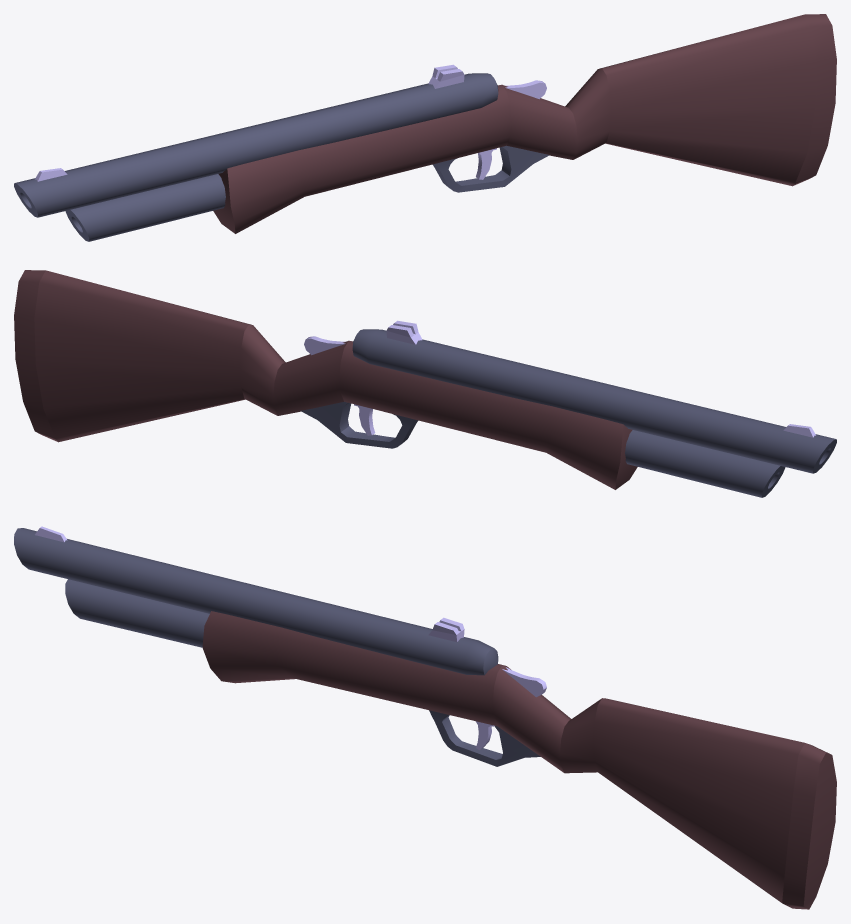
The model's file is Shotgun.obj.
The picture shows the model from 3 angles, top to bottom: view 1: azimuth 30°, elevation 25°; view 2: azimuth 150°, elevation 25°; view 3: azimuth 330°, elevation 25°; orthographic projection.
Parts seen in each view (by area): view 1: Handle, Barrel2, Barrel; view 2: Handle, Barrel2, Barrel; view 3: Handle, Barrel2, Barrel.
Boxes of the visible parts, x1,y1,x2,y2 form: Handle: (213, 14, 836, 233); Barrel2: (14, 73, 549, 241); Barrel: (35, 64, 546, 181); Handle: (14, 270, 637, 489); Barrel2: (301, 329, 836, 497); Barrel: (304, 320, 815, 437); Handle: (202, 611, 836, 909); Barrel2: (14, 528, 540, 766); Barrel: (35, 526, 546, 750).
Bounding box in the file's own units: 2.92 × 0.6949 × 0.1766.
